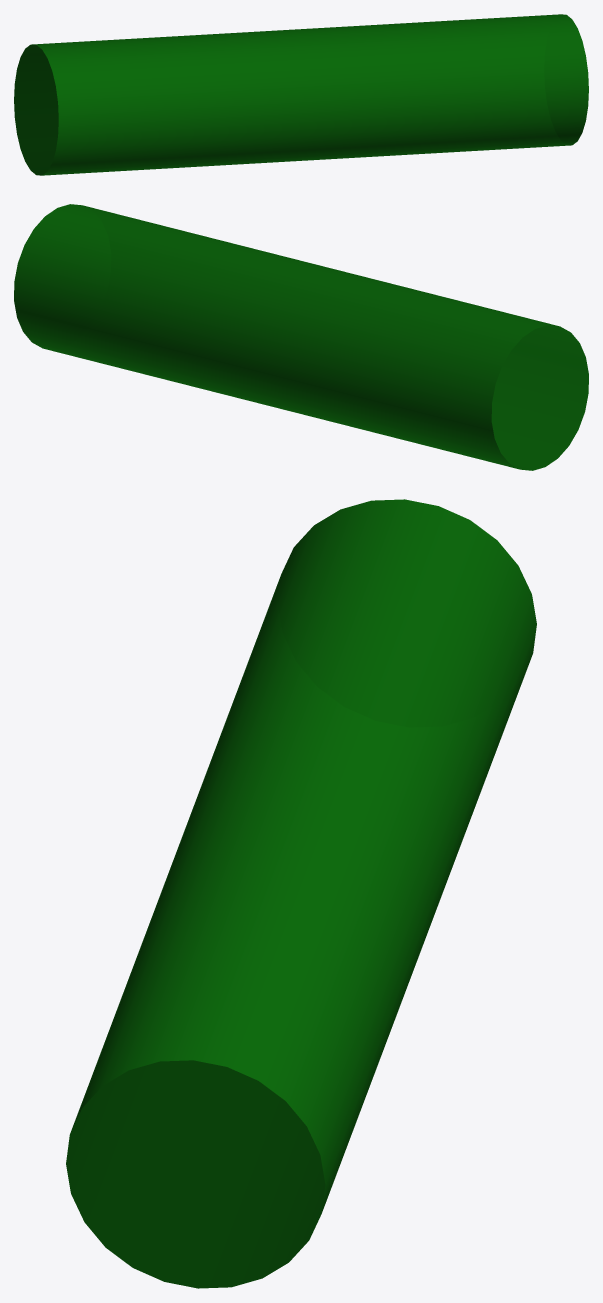
File: Event_421127236_jet_4.fbx
3 renders of one model, top to bottom at view 1: azimuth 30°, elevation 25°; view 2: azimuth 150°, elevation 25°; view 3: azimuth 270°, elevation 25°, orthographic. The views are drawn at different scales.
Parts seen in each view (by area): view 1: Model; view 2: Model; view 3: Model.
Part boxes in pixels (x1,y1,x2,y2): Model: [14, 14, 588, 175]; Model: [14, 204, 588, 470]; Model: [66, 499, 536, 1288].
Bounding box in the file's own units: 0.1752 × 0.0557 × 0.0713.
